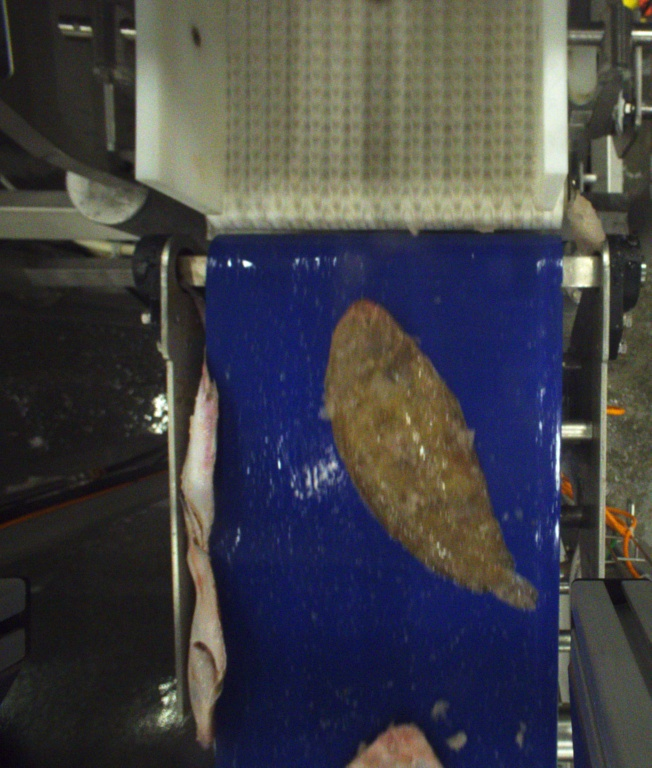SOL: (324, 307, 542, 616)
